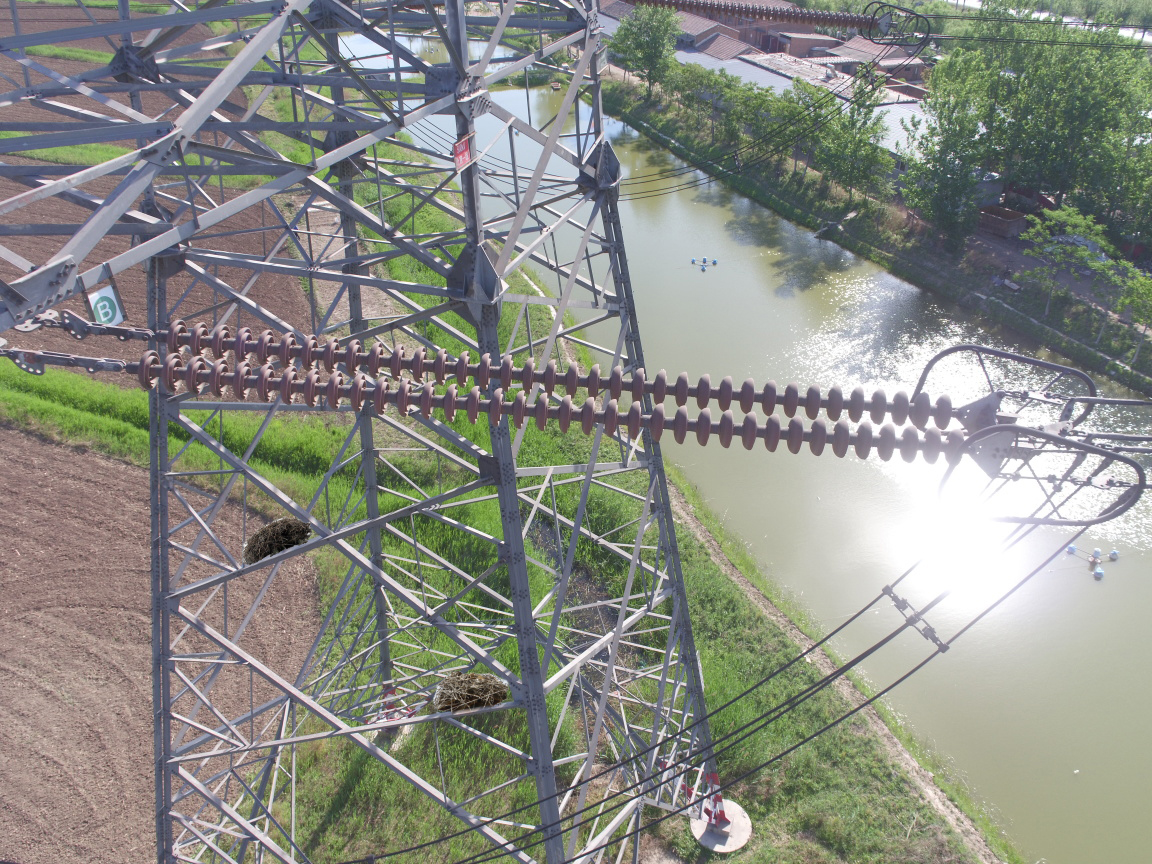nest: (236, 507, 310, 573), (417, 672, 512, 715)
